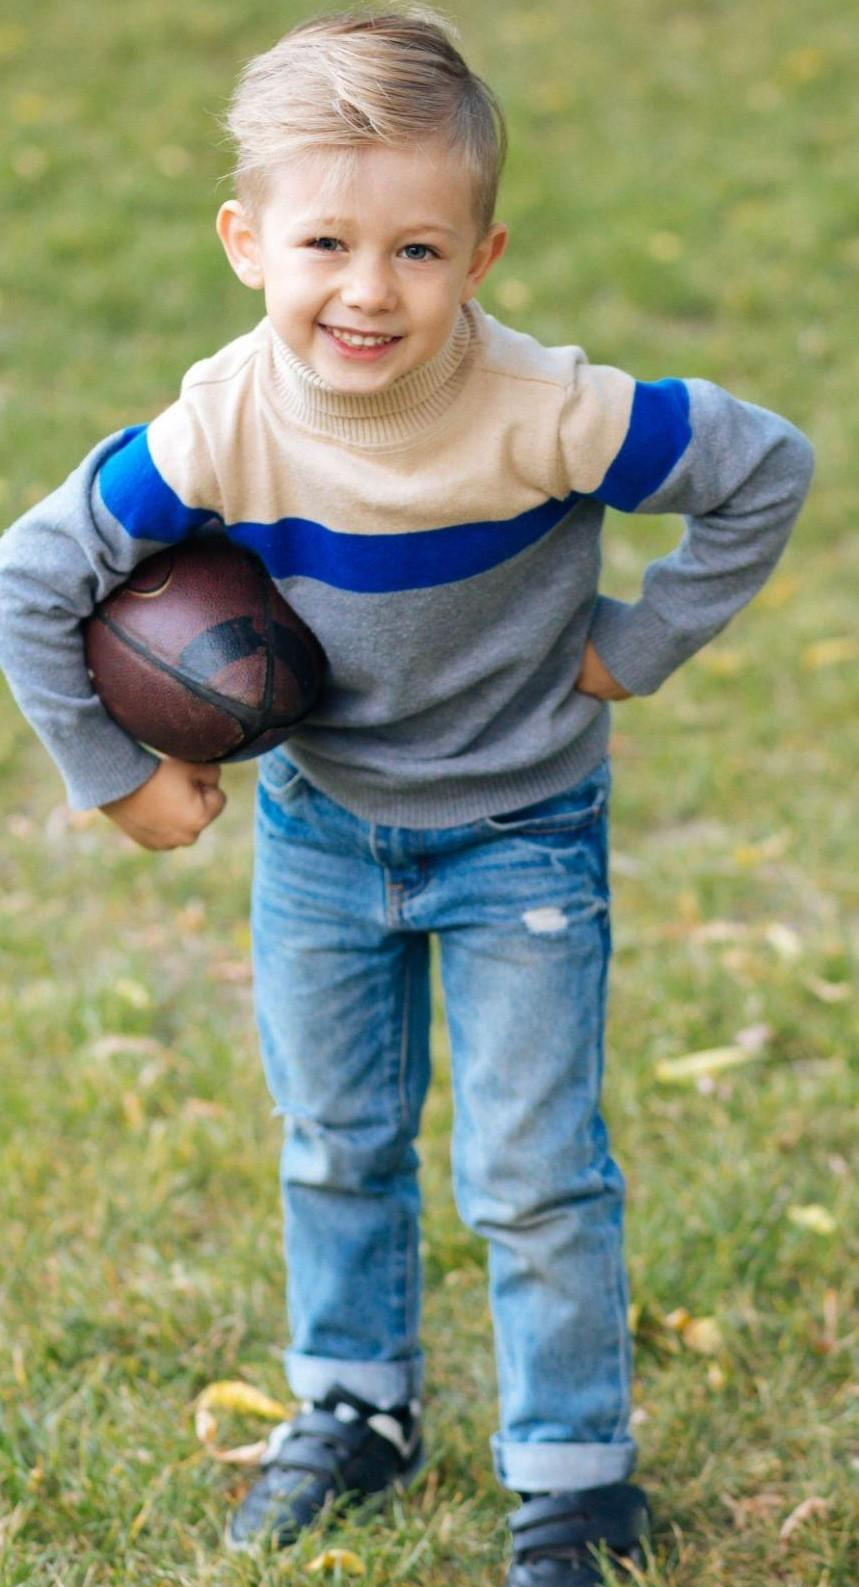Healthy: (241, 81, 514, 432)
